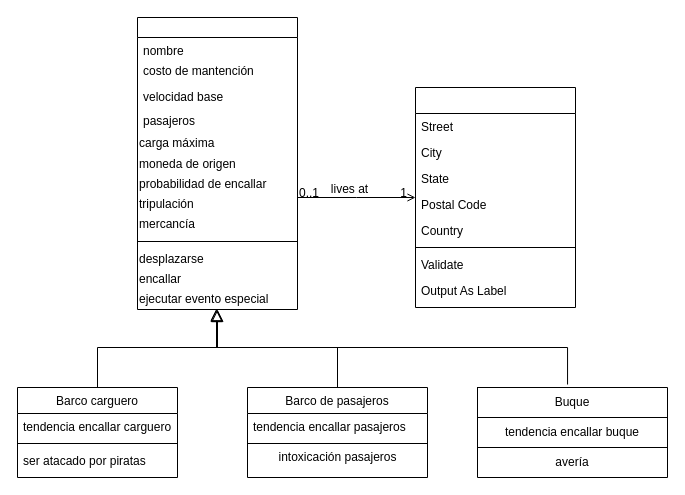
The diagram is 685 pixels wide and 495 high, and some of its shapes have lost their labels. Each missing label, with the box of its shape:
Address: (414, 86, 576, 308)
Barco: (136, 16, 298, 310)
